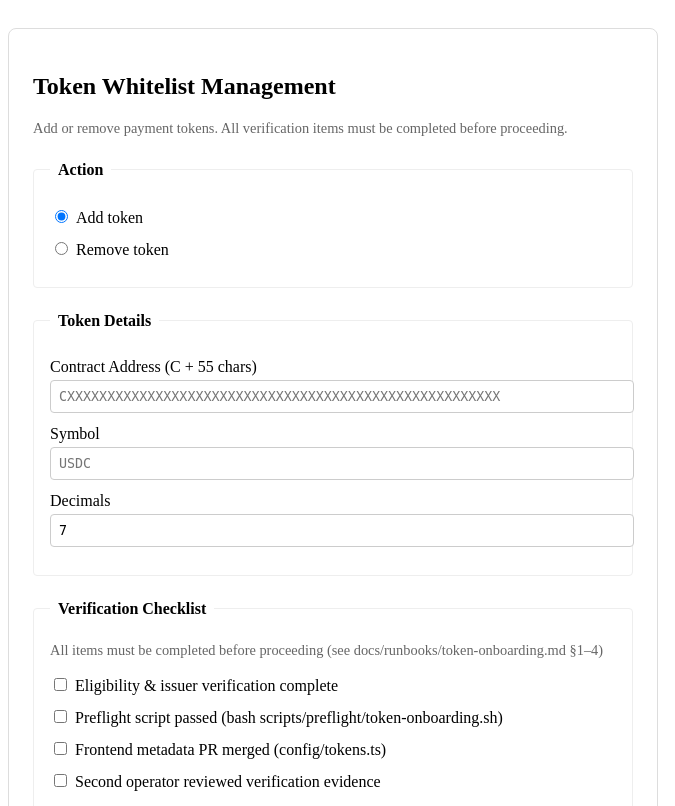
TokenWhitelistControl › toggles between add and remove actions
Click the radio button labelled "Remove token". click: [62, 248]
box: [55,242,68,255]
(page scrolled)
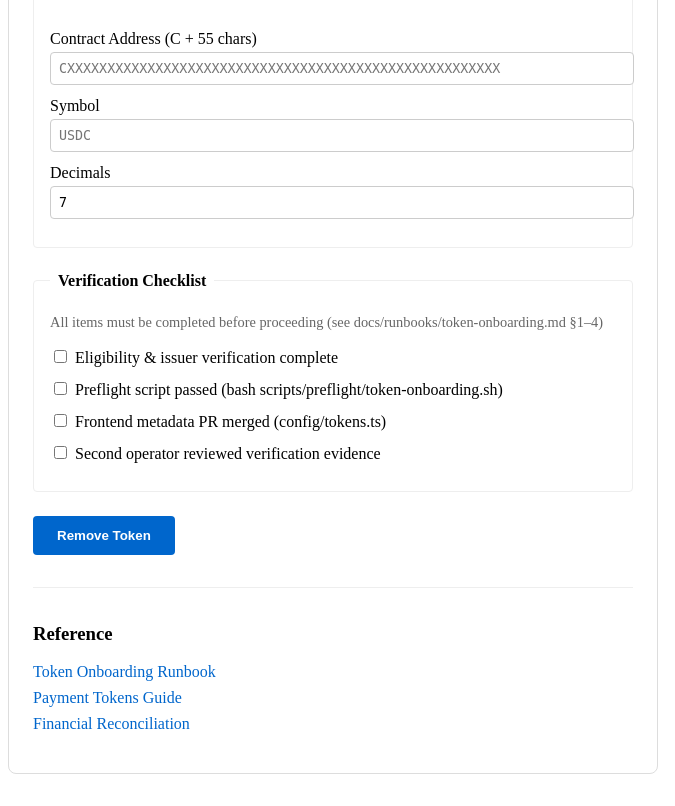
Check: the button "Remove Token" is shown, box [33,516,175,555]
